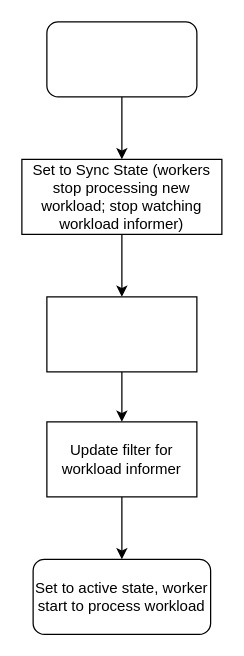
This 244x656 diagram has some shape labels left out. Here are the shapes that lost their labels. From the top down, the box of each, then its label:
(46, 21, 197, 97): Controller Instance Update Event
(46, 296, 197, 372): Check updated controller configuration
